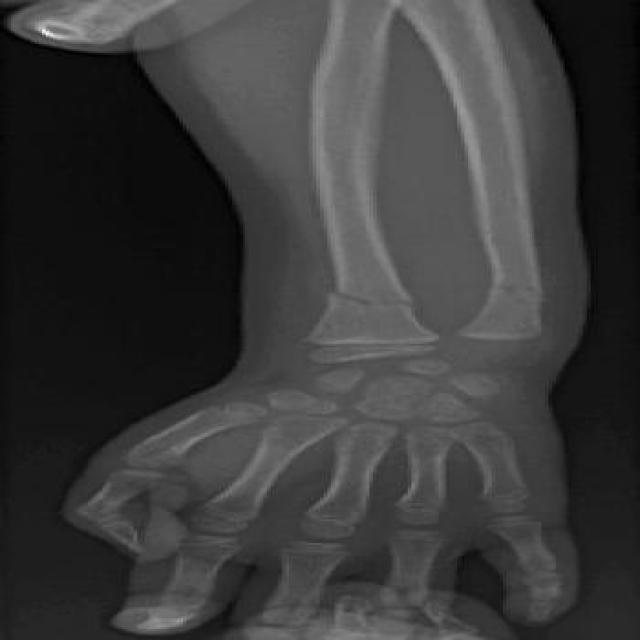Fracture: (298, 280, 444, 324), (488, 276, 549, 307)
